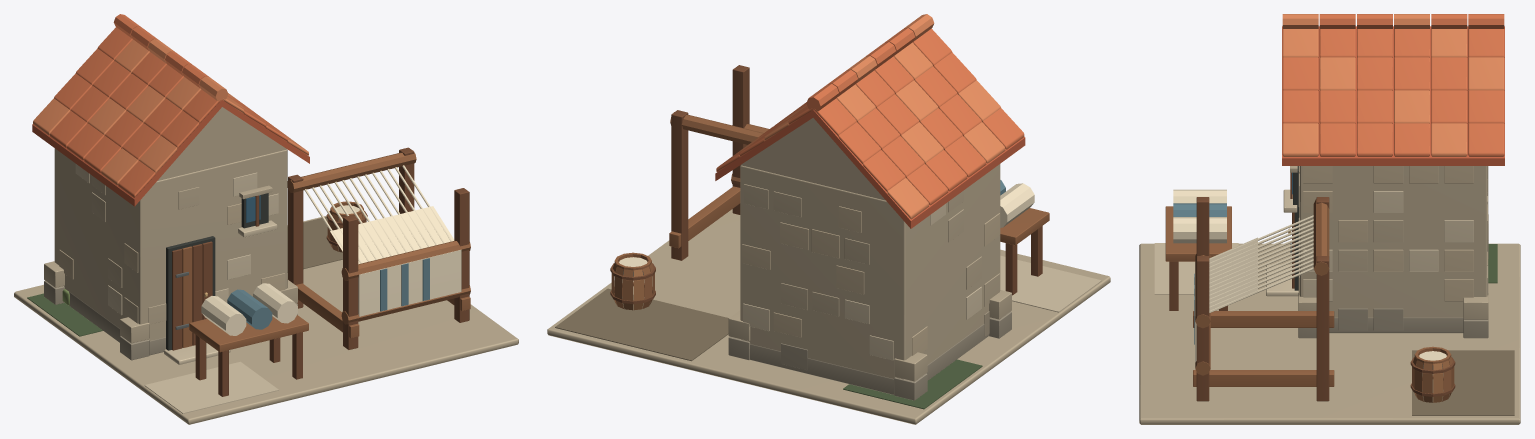
The model's file is weaver.glb.
The picture shows the model from 3 angles, left to right: view 1: azimuth 30°, elevation 25°; view 2: azimuth 150°, elevation 25°; view 3: azimuth 270°, elevation 25°; orthographic projection. The views are drawn at different scales.
Visible parts, largest first — view 1: weaver; view 2: weaver; view 3: weaver.
Boxes of the visible parts, x1=… form: weaver: x1=14, y1=14, x2=518, y2=424; weaver: x1=547, y1=14, x2=1110, y2=424; weaver: x1=1139, y1=14, x2=1520, y2=424.
Size of the model in its own units: 2.95 by 2.25 by 2.7.
